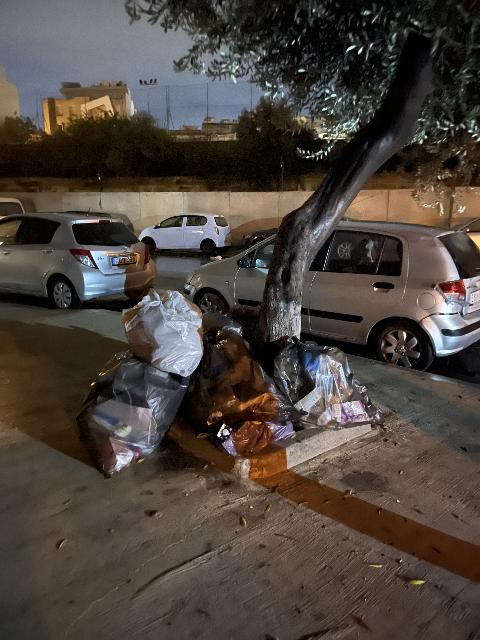Recyclable -Grey-: (184, 320, 301, 457), (76, 351, 189, 476), (274, 342, 379, 428), (123, 290, 203, 377)
